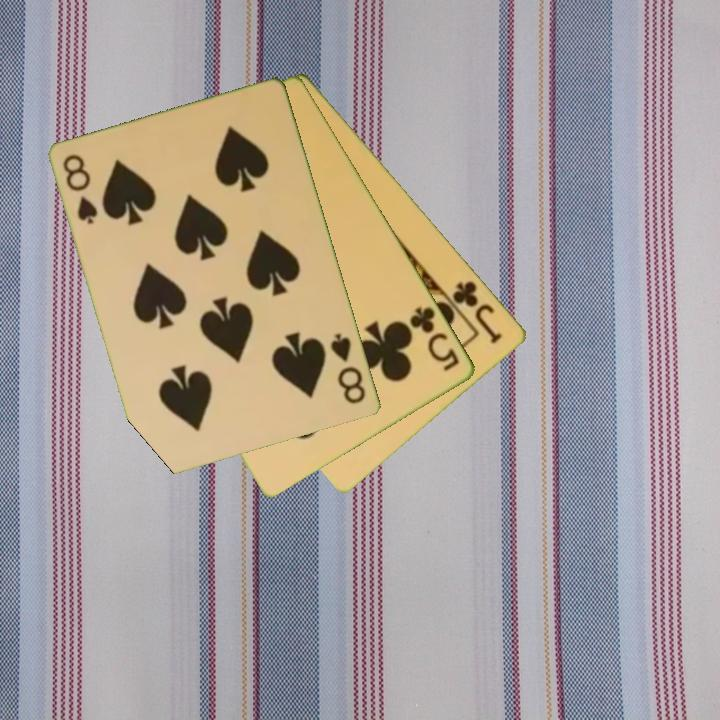5c: (406, 303, 464, 374)
8s: (327, 330, 369, 407), (59, 151, 101, 228)
Jc: (449, 277, 506, 347)
